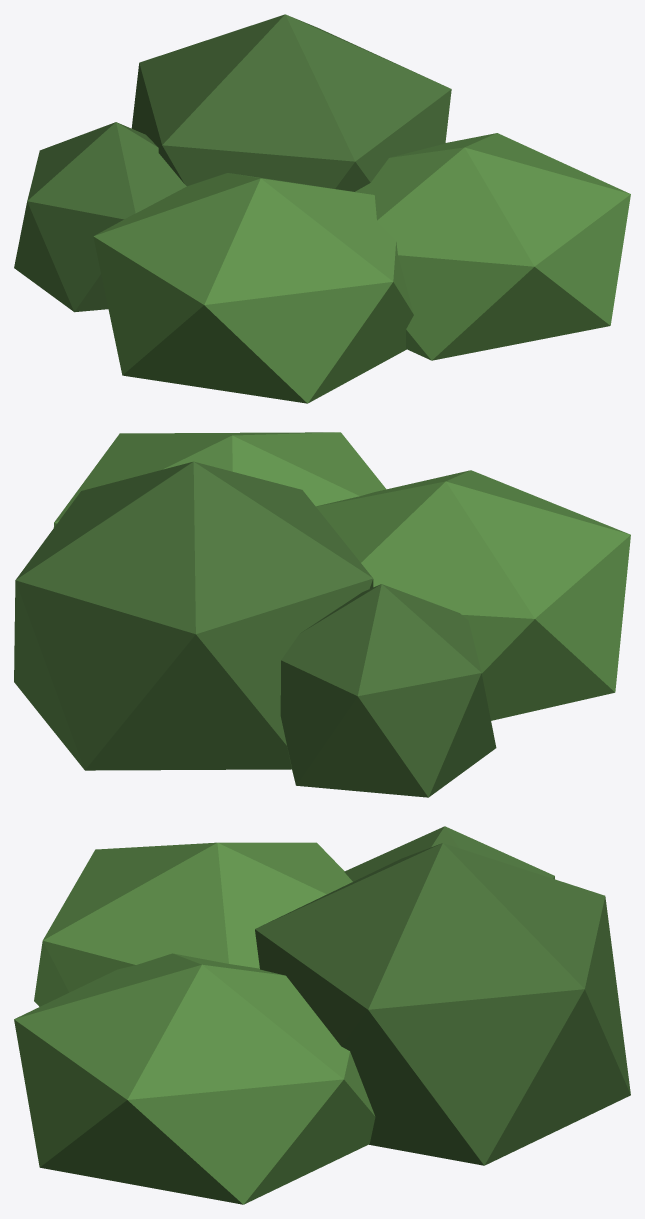
Rendered from Bush_01.glb.
3 views of the same model, one above another, from view 1: azimuth 30°, elevation 25°; view 2: azimuth 150°, elevation 25°; view 3: azimuth 270°, elevation 25° (orthographic). The views are drawn at different scales.
Visible parts, largest first — view 1: Bush_01; view 2: Bush_01; view 3: Bush_01.
Boxes of the visible parts, bbox=[...] form: Bush_01: bbox=[14, 14, 630, 403]; Bush_01: bbox=[14, 432, 630, 797]; Bush_01: bbox=[14, 826, 630, 1204].
Size of what is drawn, in the model's own units: 1.84 by 0.7925 by 1.8.
1 material, 1 textured.
